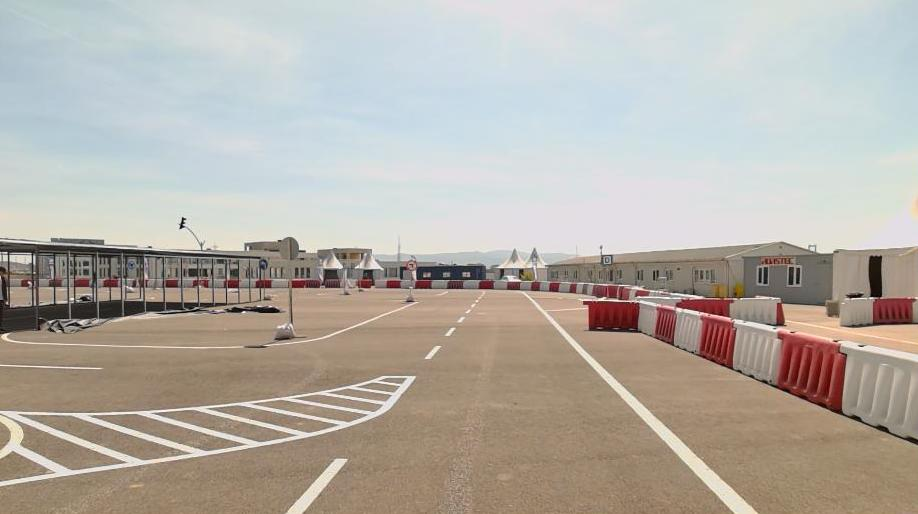nesne: (283, 290, 758, 513), (0, 290, 486, 412), (522, 291, 756, 513), (0, 375, 415, 487), (0, 422, 382, 513), (2, 301, 418, 349), (839, 340, 918, 442), (774, 326, 844, 414), (285, 457, 348, 513), (732, 318, 781, 385), (697, 312, 734, 367), (585, 299, 637, 331), (729, 296, 780, 323), (672, 307, 699, 353), (679, 297, 735, 317), (875, 297, 915, 323), (841, 298, 875, 326), (529, 296, 585, 312), (653, 304, 674, 344), (637, 300, 654, 336), (2, 363, 102, 369), (271, 321, 299, 338), (637, 297, 683, 306), (288, 279, 320, 289), (424, 342, 441, 359), (119, 277, 145, 288), (592, 283, 606, 297), (463, 280, 480, 290), (209, 279, 226, 289), (147, 279, 164, 289), (606, 284, 618, 298), (416, 279, 432, 289), (272, 278, 288, 288), (601, 253, 612, 267), (256, 278, 270, 289), (178, 279, 195, 288), (238, 279, 257, 287), (447, 279, 462, 289), (387, 279, 402, 289), (432, 280, 448, 289), (558, 282, 571, 293), (402, 278, 416, 288), (90, 278, 104, 288), (49, 278, 63, 288), (36, 278, 50, 288), (356, 279, 371, 288), (325, 279, 340, 288), (193, 279, 208, 288), (405, 259, 417, 270), (164, 278, 177, 288), (225, 279, 239, 288), (76, 278, 90, 287), (444, 326, 456, 336), (479, 280, 494, 288), (495, 280, 508, 289), (105, 278, 118, 287), (63, 278, 76, 287), (540, 281, 550, 292), (629, 287, 638, 299), (620, 287, 629, 299), (635, 288, 649, 295), (508, 281, 520, 289), (374, 281, 386, 289), (456, 315, 465, 324), (521, 281, 530, 290), (569, 283, 577, 293), (531, 280, 539, 290), (587, 284, 594, 295), (576, 282, 583, 293), (550, 282, 558, 291), (583, 283, 587, 295)
